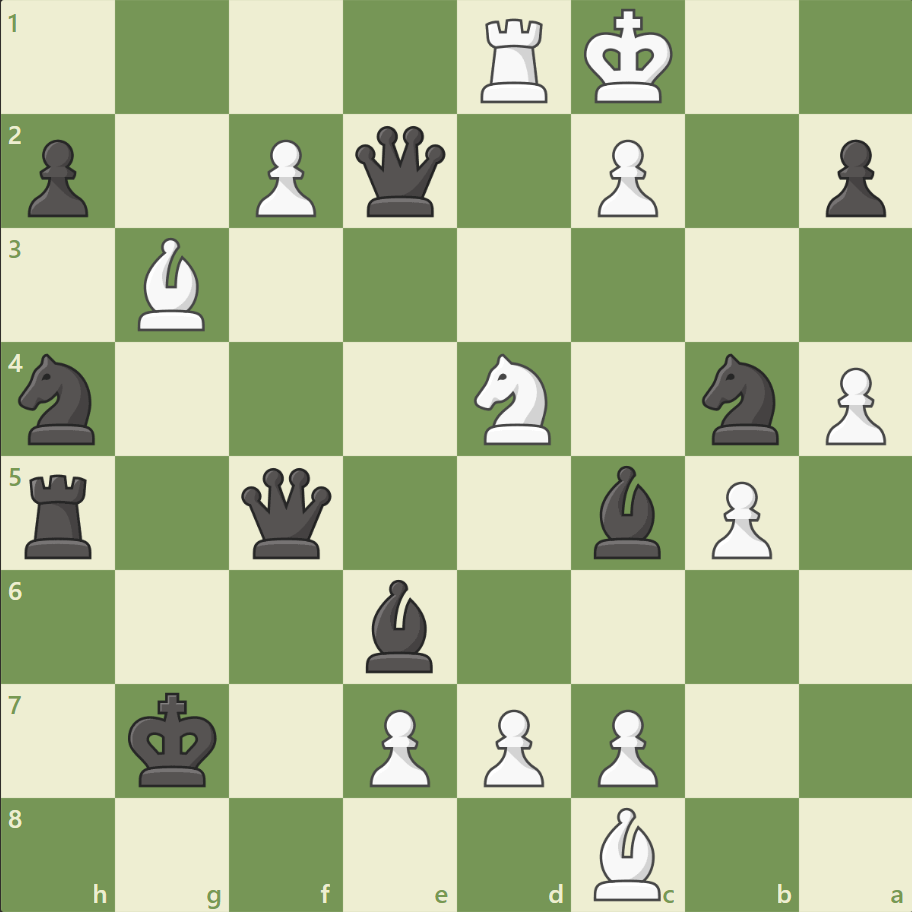B: (585, 801, 669, 904), (131, 233, 215, 336)
K: (579, 4, 679, 112)
N: (465, 348, 562, 450)
P: (474, 700, 549, 791), (701, 473, 776, 564), (247, 132, 322, 223), (588, 700, 662, 791), (361, 700, 435, 791), (815, 359, 889, 450), (588, 132, 662, 223)
R: (473, 12, 556, 109)
b: (585, 460, 669, 563), (358, 574, 442, 676)
k: (124, 685, 224, 793)
n: (692, 348, 789, 450), (11, 348, 108, 450)
p: (20, 132, 95, 223), (815, 132, 889, 223)
q: (351, 122, 450, 222), (237, 463, 336, 562)
r: (19, 466, 102, 563)
